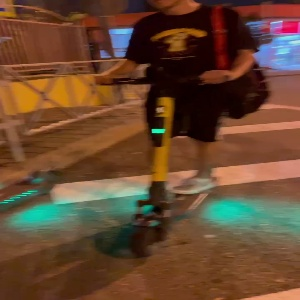human on a scooter: (91, 1, 274, 258)
